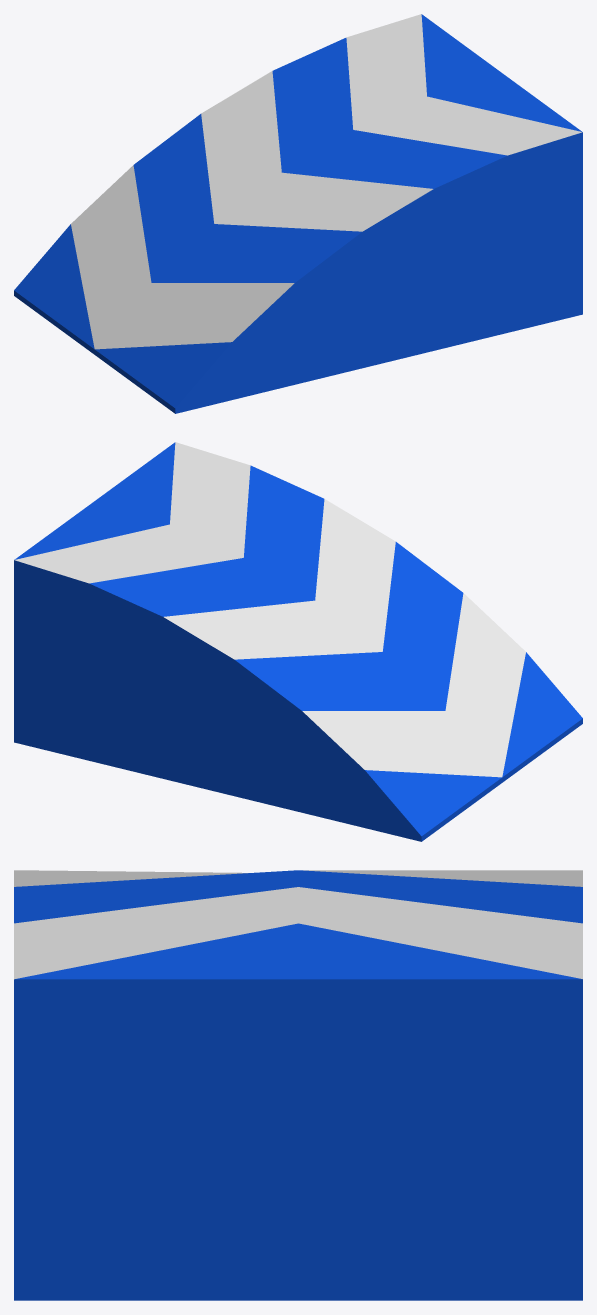
The model's file is Way01_Pont_Down_.fbx.
3 renders of one model, top to bottom at view 1: azimuth 30°, elevation 25°; view 2: azimuth 150°, elevation 25°; view 3: azimuth 270°, elevation 25°, orthographic. The views are drawn at different scales.
Parts seen in each view (by area): view 1: Way01_Pont_Down_; view 2: Way01_Pont_Down_; view 3: Way01_Pont_Down_.
Boxes of the visible parts, <box> form: Way01_Pont_Down_: <box>14,14,582,413</box>; Way01_Pont_Down_: <box>14,442,582,841</box>; Way01_Pont_Down_: <box>14,870,582,1300</box>.
Size of the model in its own units: 5.83 by 4 by 2.49.
